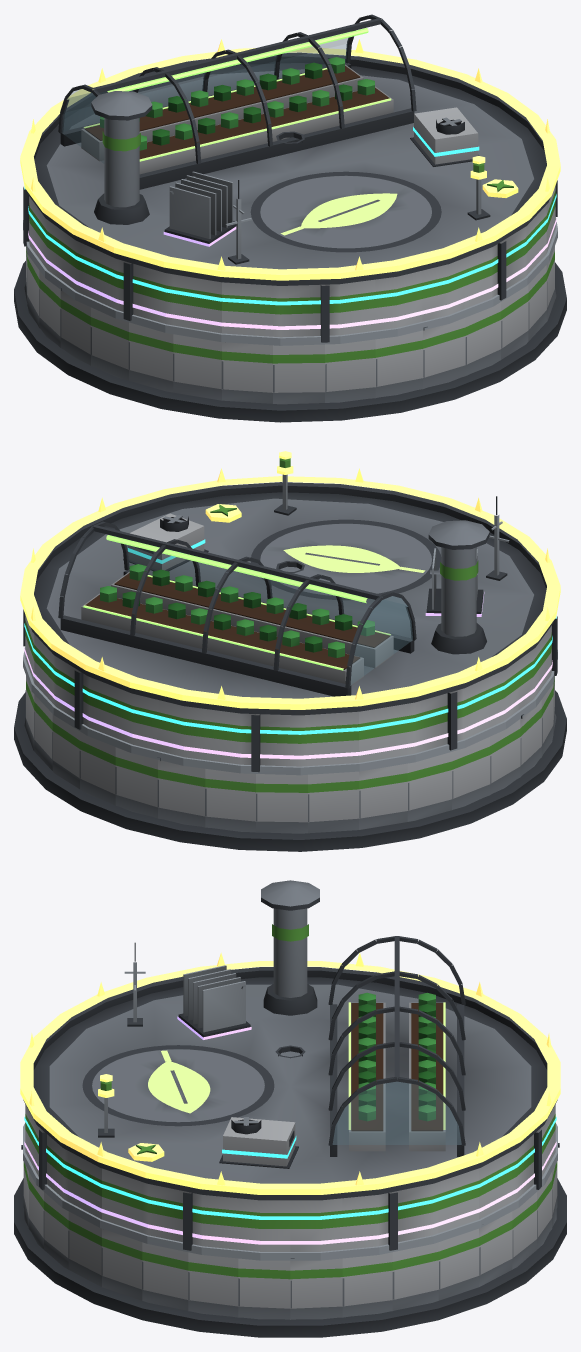
File: kitchen_s_far.glb
3 views of the same model, one above another, from view 1: azimuth 30°, elevation 25°; view 2: azimuth 150°, elevation 25°; view 3: azimuth 270°, elevation 25° (orthographic).
Visible parts, largest first — view 1: Roof, Base, L5, L4, L2, L3; view 2: Roof, Base, L5, L2, L3, L4; view 3: Roof, Base, L5, L4, L3, L2.
Boxes of the visible parts, x1,y1,x2,y2 form: Roof: (23, 14, 557, 342); Base: (14, 246, 566, 422); L5: (20, 39, 560, 280); L4: (28, 171, 556, 329); L2: (23, 180, 557, 345); L3: (24, 107, 556, 305); Roof: (23, 482, 557, 772); Base: (14, 676, 566, 851); L5: (20, 451, 560, 709); L2: (23, 496, 557, 775); L3: (24, 513, 556, 734); L4: (24, 548, 552, 759); Roof: (23, 880, 557, 1251); Base: (14, 1143, 566, 1337); L5: (20, 952, 560, 1194); L4: (24, 965, 556, 1244); L3: (24, 1045, 556, 1219); L2: (23, 942, 557, 1260).
Size of the model in its own units: 10.53 by 5.34 by 10.53.
